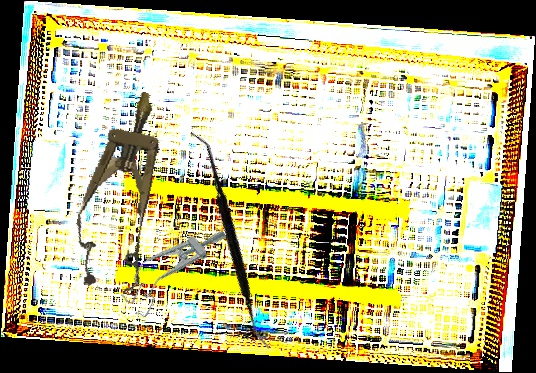Spatula Surgical: (116, 130, 344, 351)
Speculum: (63, 83, 184, 298), (113, 210, 233, 321)
